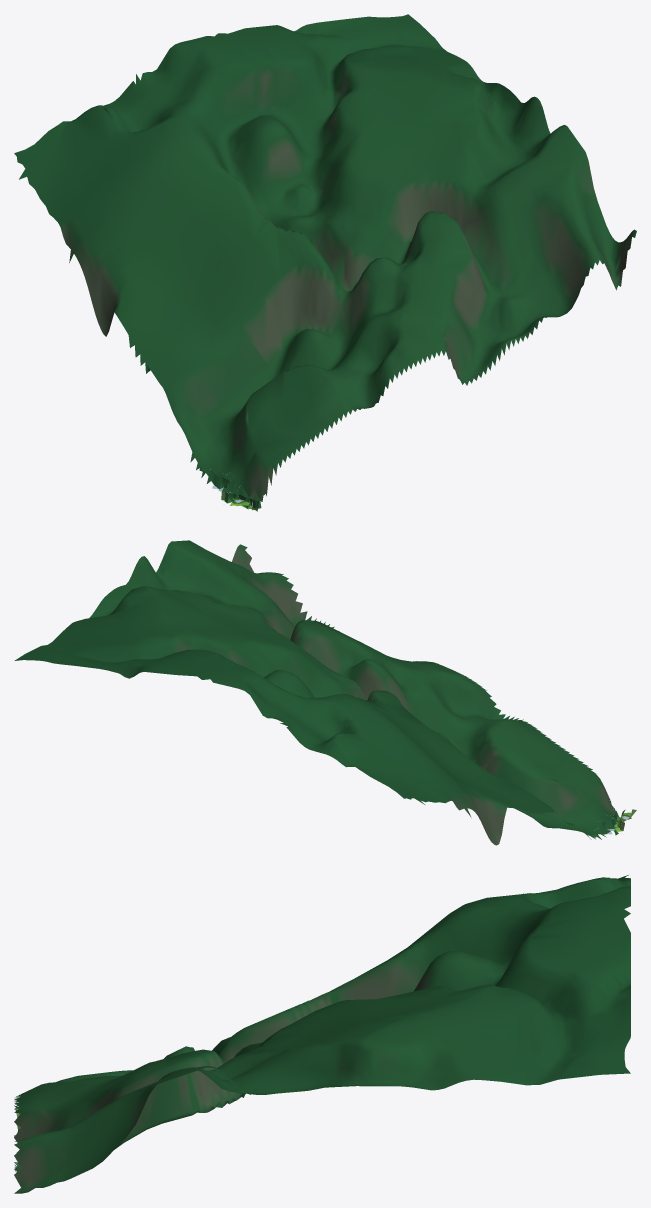
Rendered from payo_land_xm3_y4_lod1.glb.
3 views of the same model, one above another, from view 1: azimuth 30°, elevation 25°; view 2: azimuth 150°, elevation 25°; view 3: azimuth 270°, elevation 25° (orthographic). The views are drawn at different scales.
Visible parts, largest first — view 1: payo_land_xm3_y4; view 2: payo_land_xm3_y4; view 3: payo_land_xm3_y4.
Boxes of the visible parts, x1=… form: payo_land_xm3_y4: x1=14, y1=14, x2=636, y2=511; payo_land_xm3_y4: x1=14, y1=540, x2=636, y2=845; payo_land_xm3_y4: x1=14, y1=875, x2=630, y2=1193.
Bounding box in the file's own units: 260 × 162 × 261.
